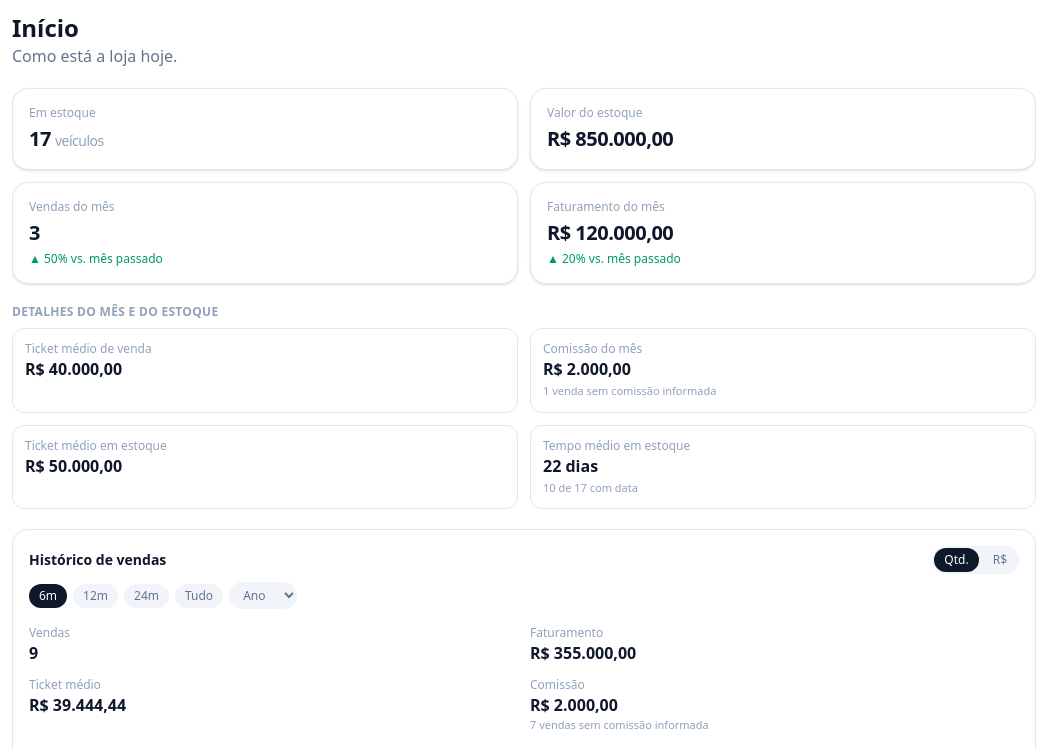
Test: HomePage › switches range with the preset pills, expanding beyond the 6-month window
Expected: the text "Histórico de vendas" is shown, [29,550,166,570]
Click the button "Tudo" at (199, 596), box [175,584,223,608]
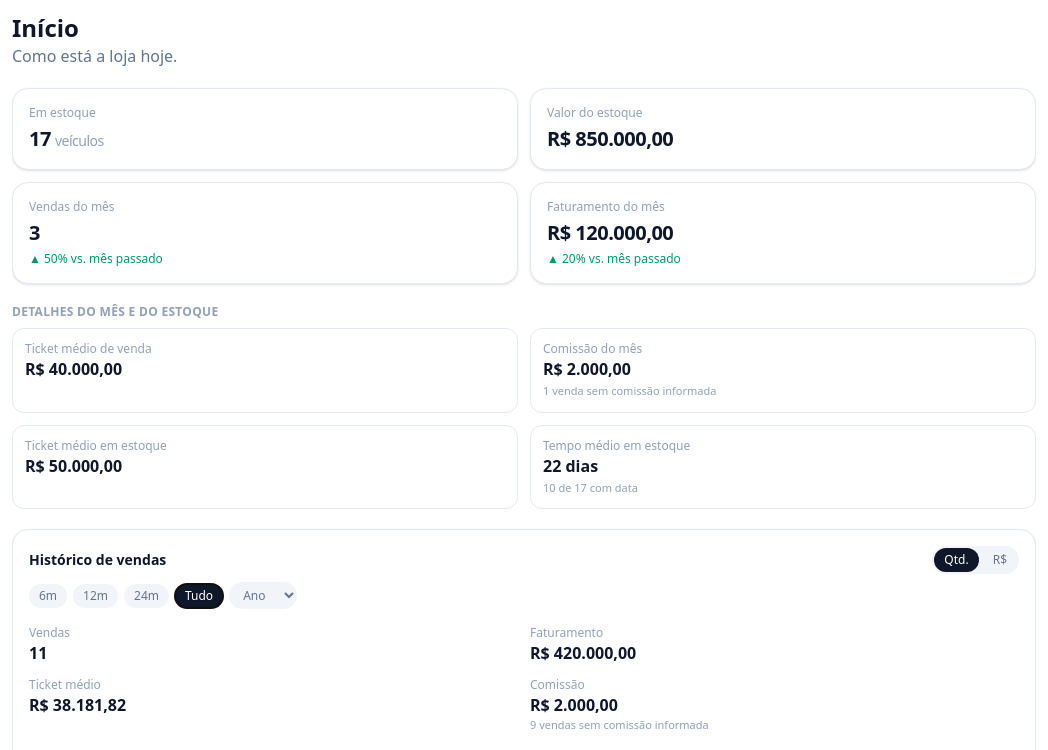
Expected: the text "11" is shown, [29,642,47,664]
